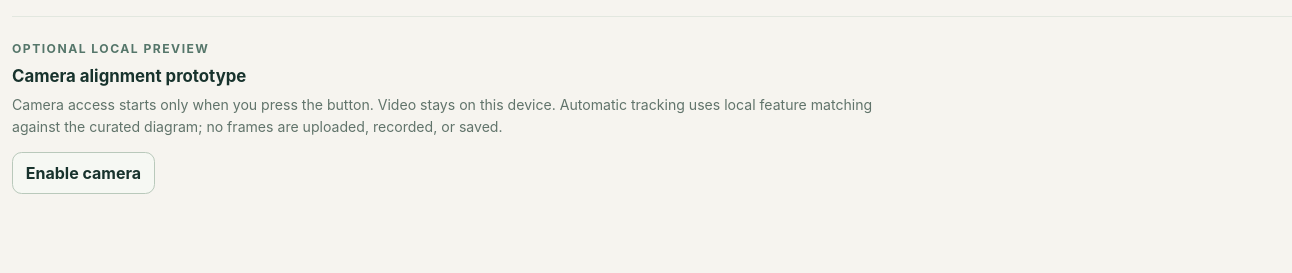
Test: camera alignment panel › reports denied permission, unavailable cameras/APIs, and insecure contexts safely
Later steps or results of the test are not shown.
Click the button "Enable camera": (83, 173) [12,152,155,194]
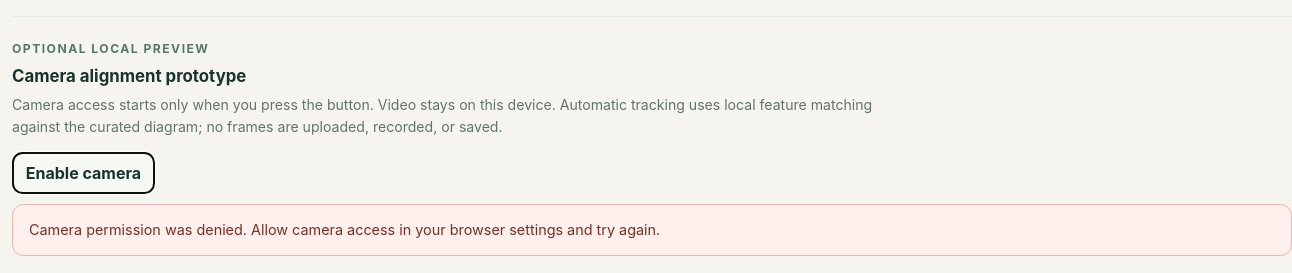
Result: the message shows "permission was denied" at [29,221,660,238]
